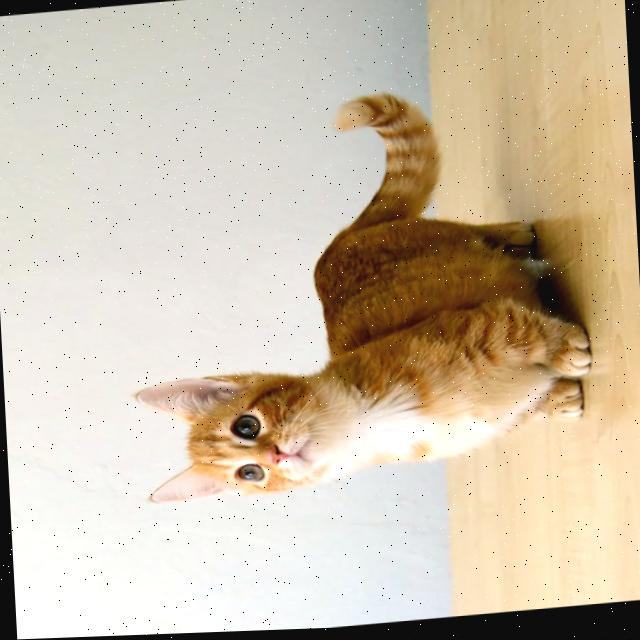Munchkin: (110, 75, 602, 511)
